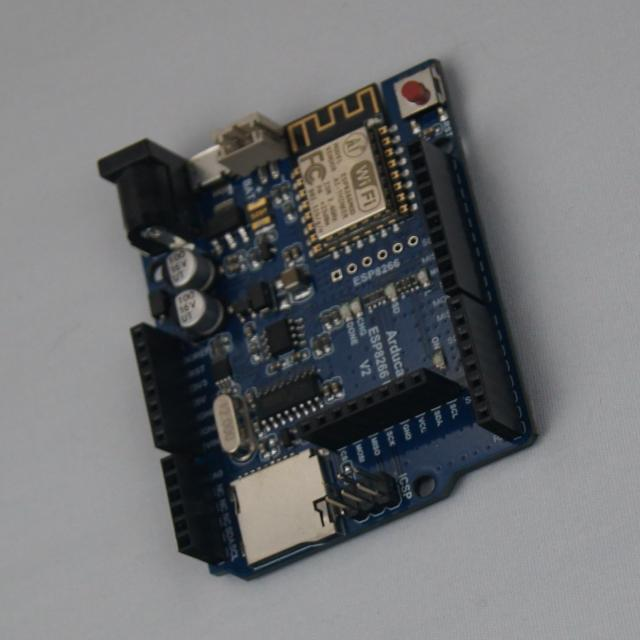Arduino Uno Camera Shield: (99, 61, 535, 578)
